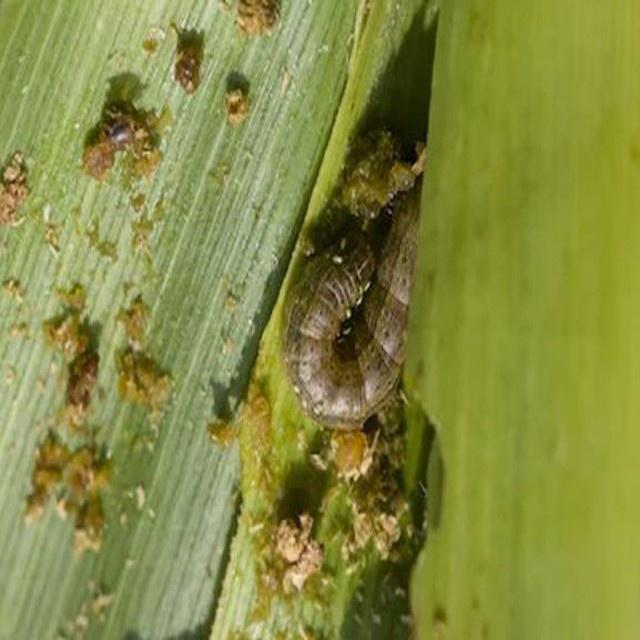worm: (280, 184, 428, 433)
